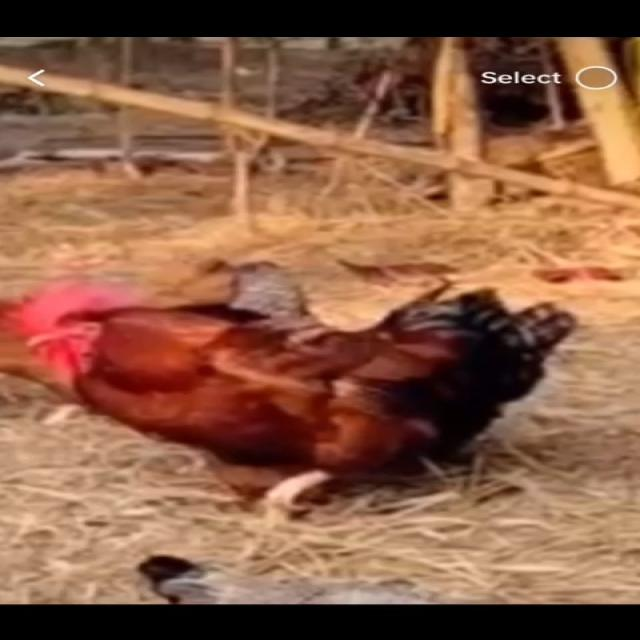wing flap: (0, 232, 593, 553)
